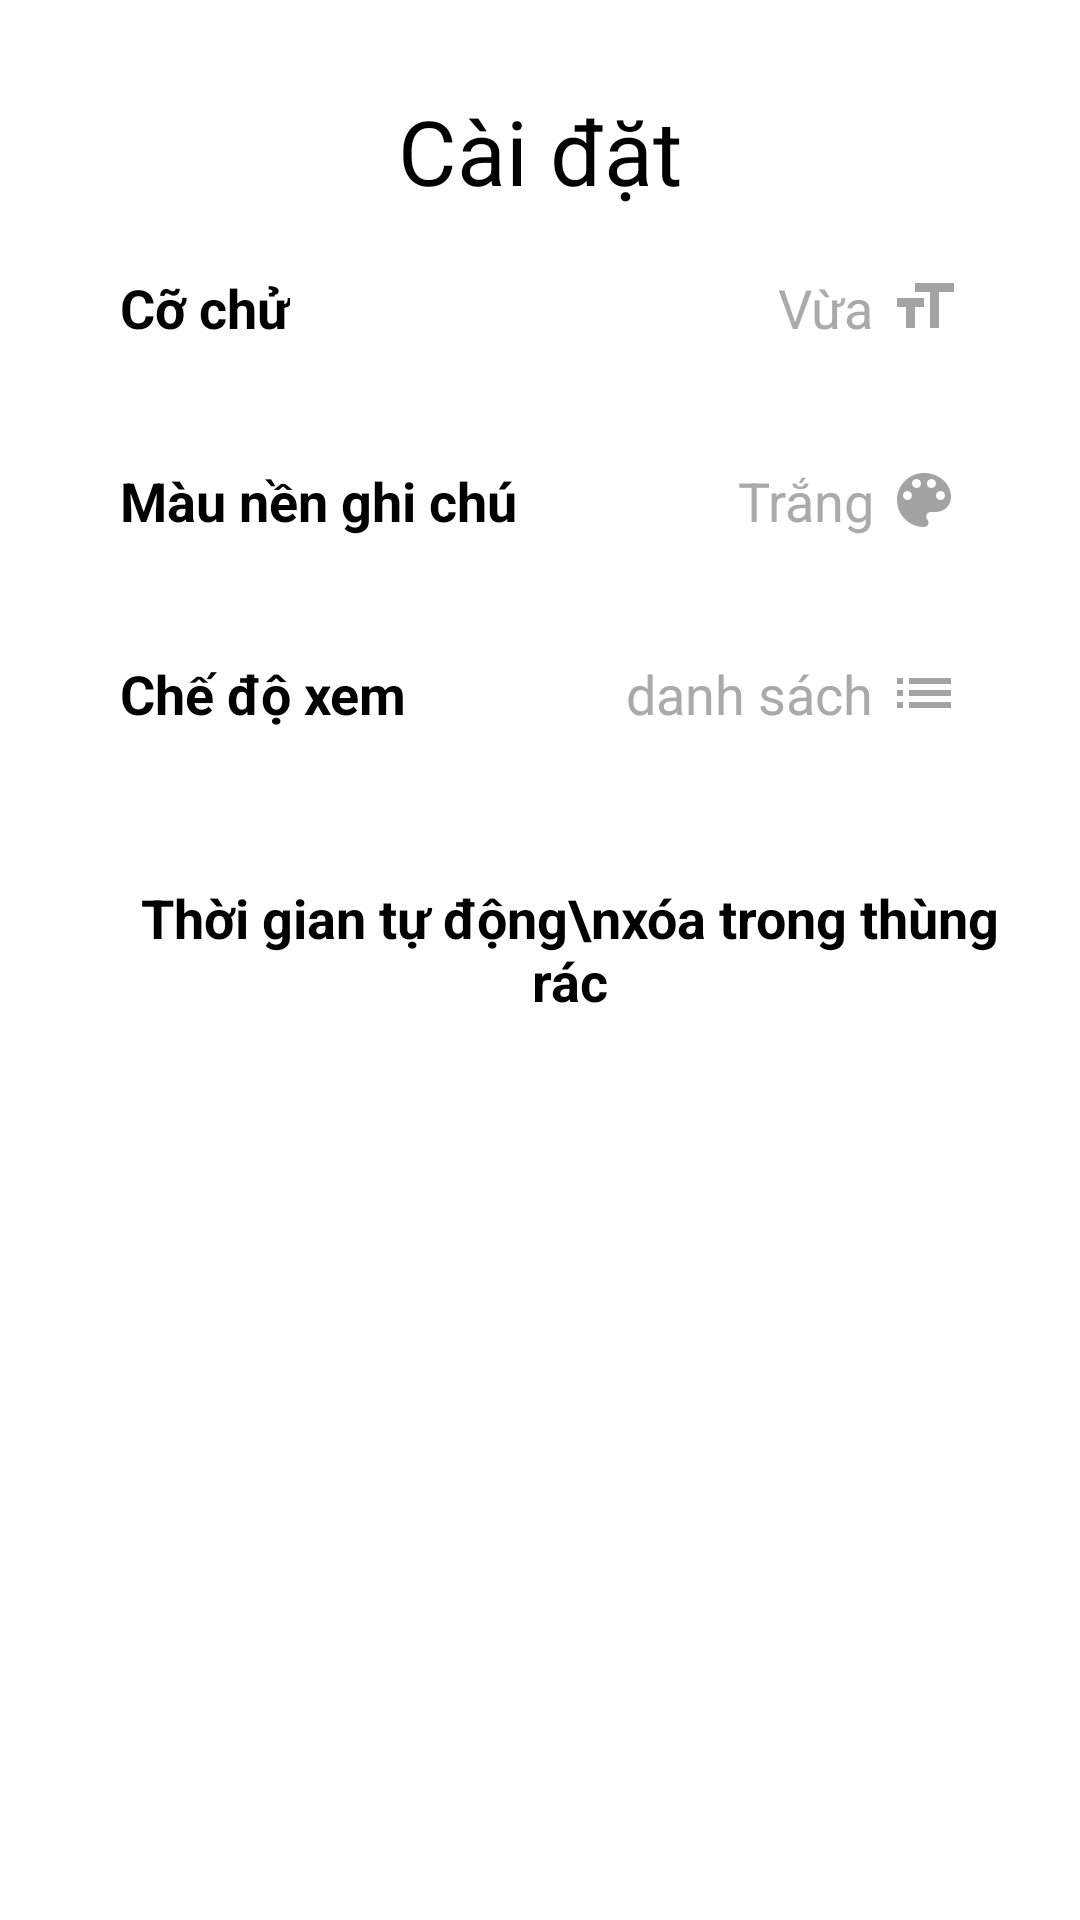

Where to tap for icons on this 1080 x 1920 app screen, as (x,y):
format size: (925,305)
list: (924,693)
